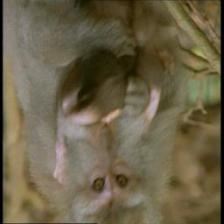monkey: (72, 125, 148, 221), (60, 93, 128, 133)
